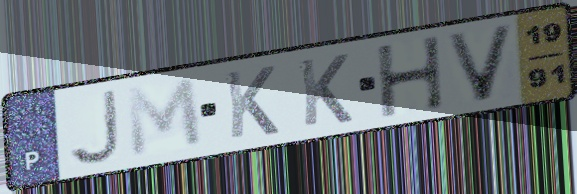H: (373, 32, 448, 121)
J: (64, 87, 122, 168)
K: (222, 63, 282, 142), (295, 51, 355, 130)
M: (122, 74, 207, 161)
V: (441, 21, 519, 105)
